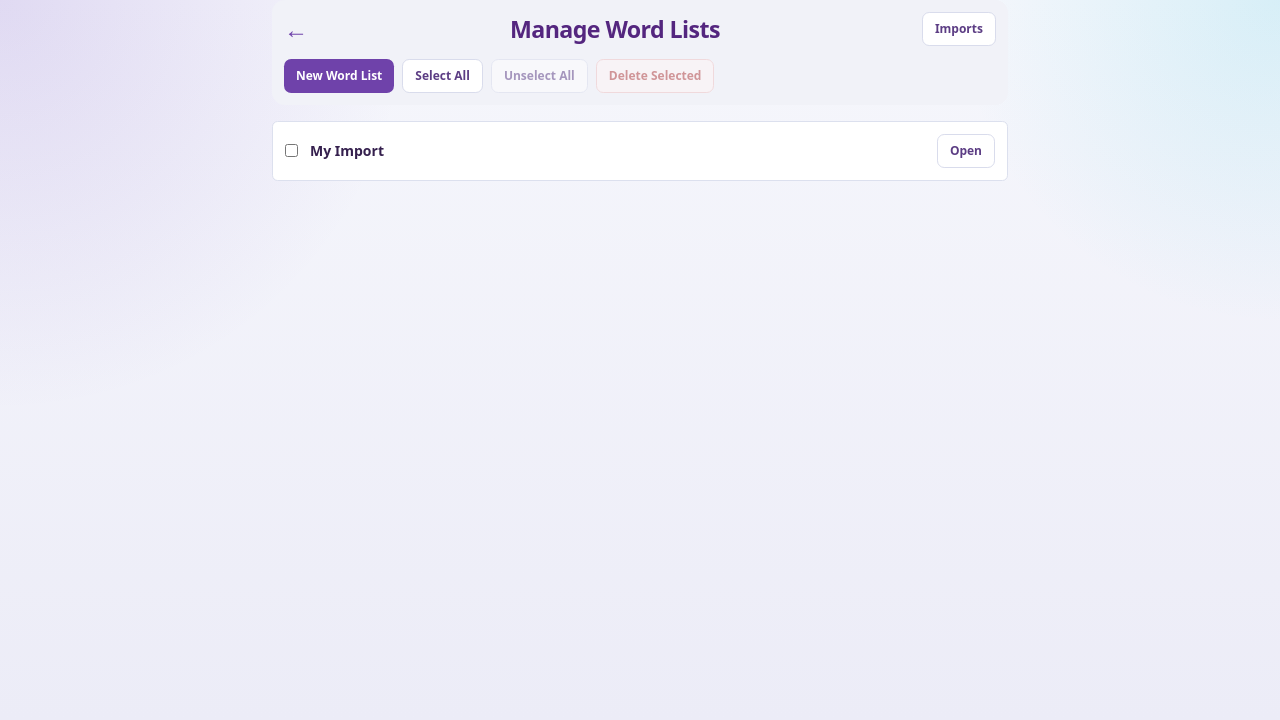
Test case: WordListsPage › creates a new word list from the index modal
Click the button with test id "word-lists-new-button". click: (339, 76)
box: [284,59,394,93]
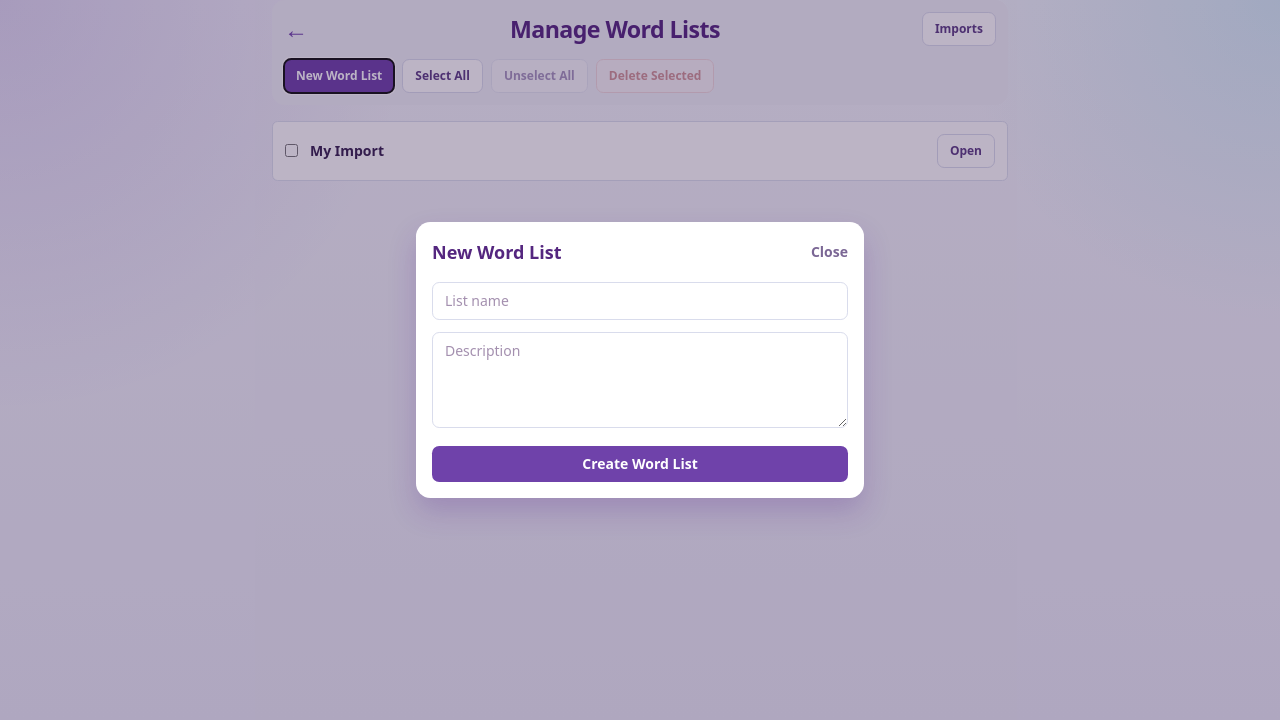
Type "Fresh List" into the field with test id "word-lists-create-name-input". click: (640, 301)
box: [432,282,848,320]
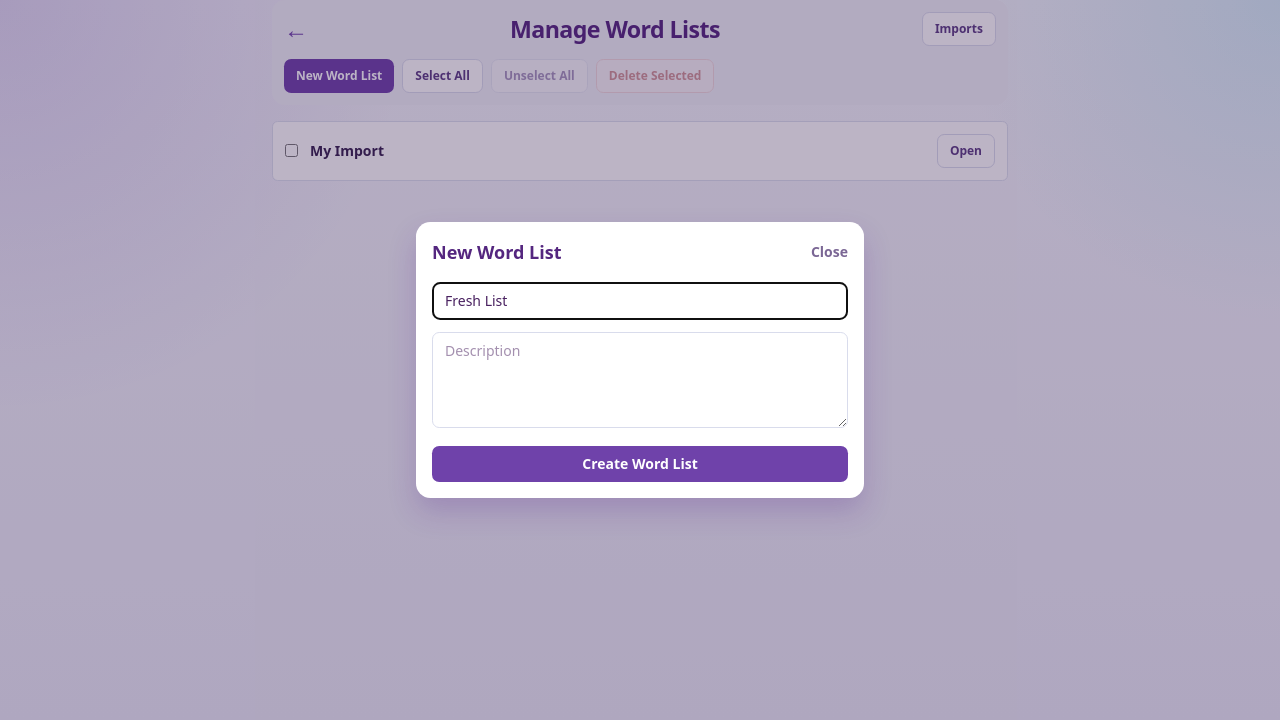
Type "Notes" into the text box with test id "word-lists-create-description-input". click: (640, 380)
box: [432,332,848,428]
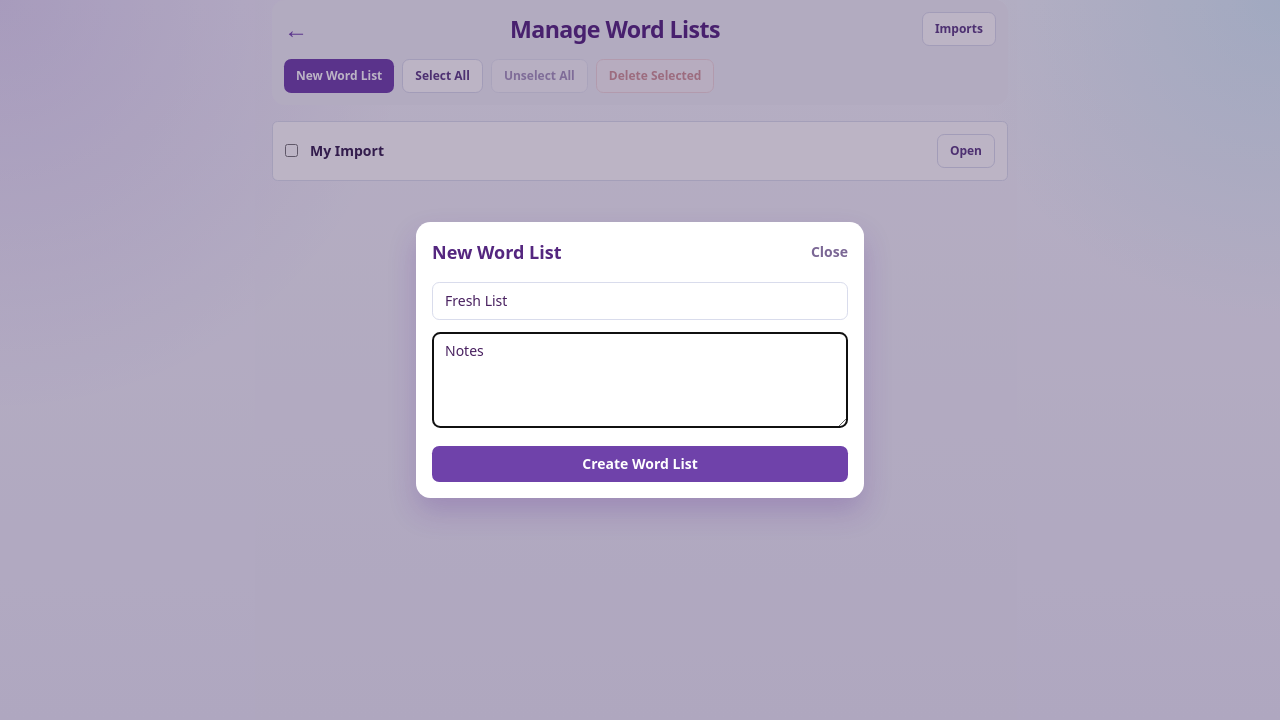
Click the button with test id "word-lists-create-submit-button". click: (640, 464)
box: [432,446,848,482]
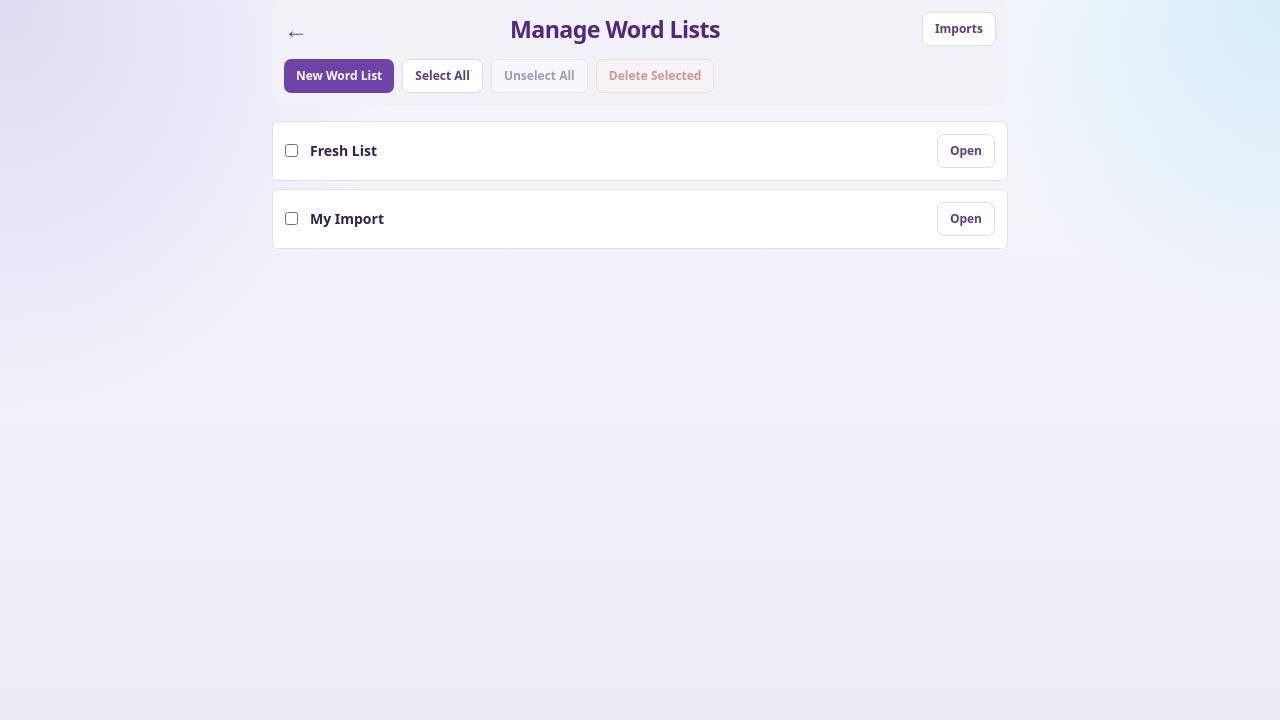
Expected: the element with test id "word-lists-list" shows "Fresh List", [310,141,377,160]
